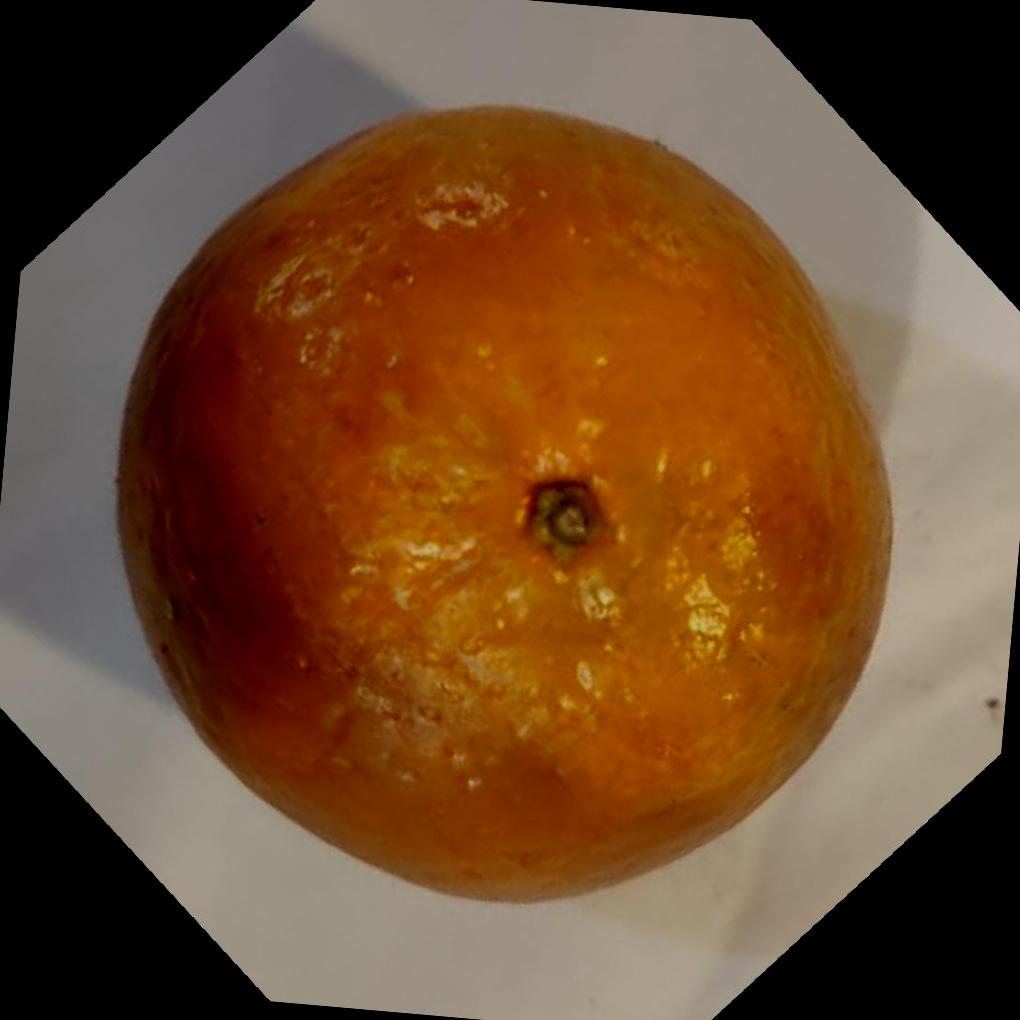FreshOrange: (109, 99, 891, 905)
